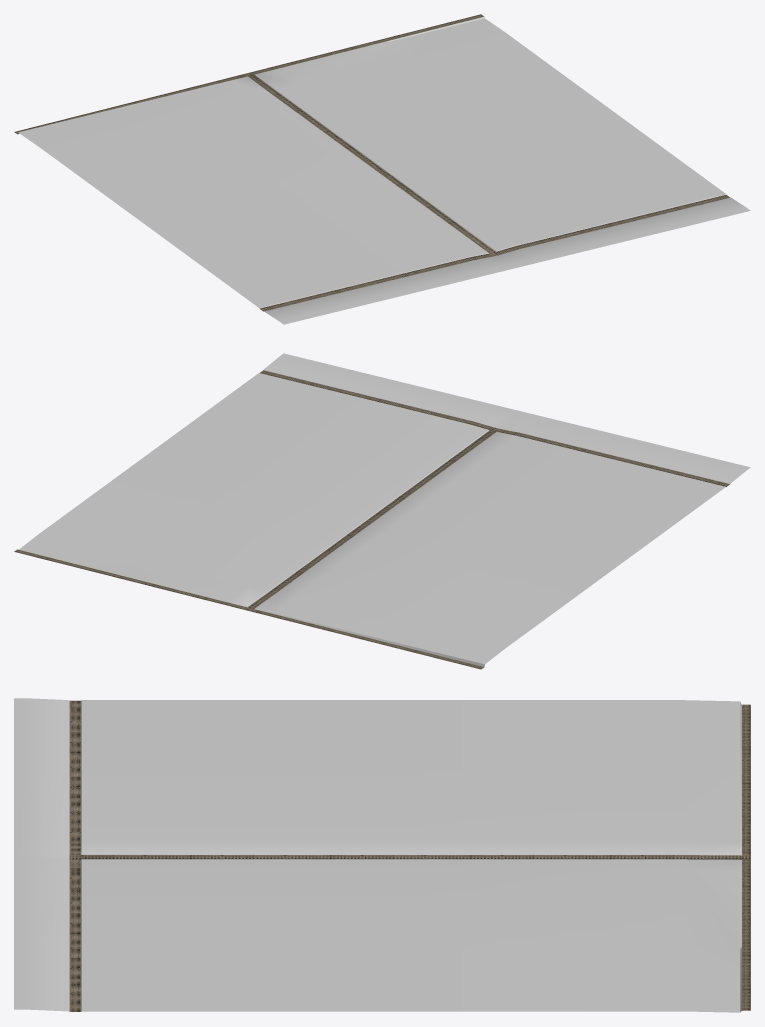
Rendered from Corridor_00_00.008.fbx.
3 renders of one model, top to bottom at view 1: azimuth 30°, elevation 25°; view 2: azimuth 150°, elevation 25°; view 3: azimuth 270°, elevation 25°, orthographic. The views are drawn at different scales.
Parts seen in each view (by area): view 1: Corridor_00_00.008; view 2: Corridor_00_00.008; view 3: Corridor_00_00.008.
Boxes of the visible parts, x1,y1,x2,y2 form: Corridor_00_00.008: (14, 14, 750, 324); Corridor_00_00.008: (14, 353, 750, 669); Corridor_00_00.008: (14, 698, 750, 1012).
Size of the model in its own units: 3703 by 35.6 by 3704.
